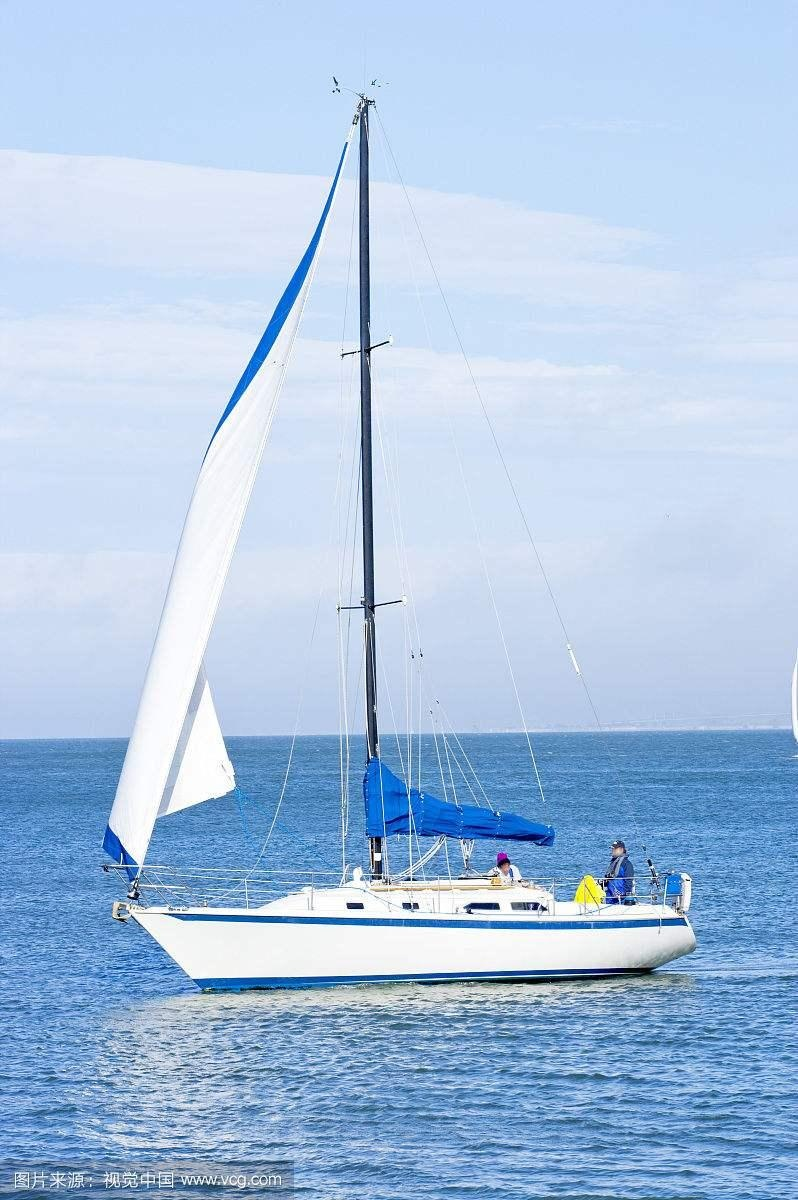fanchuan: (102, 57, 707, 1015)
